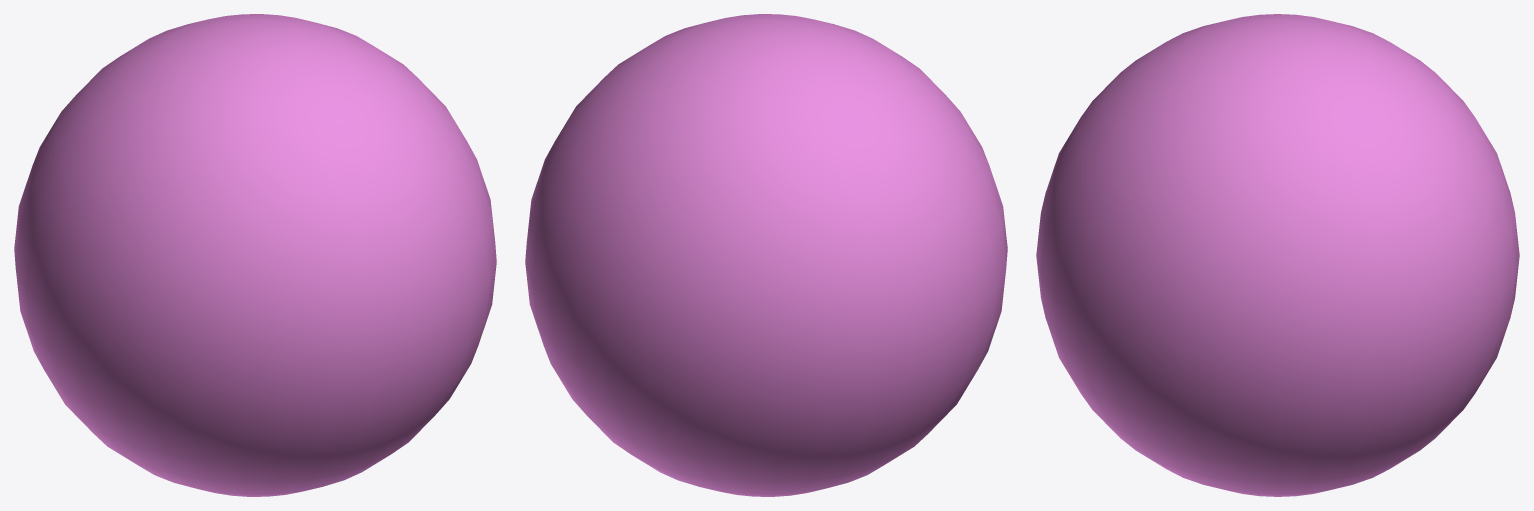
Rendered from AppraisersEyeMesh.fbx.
3 renders of one model, left to right at view 1: azimuth 30°, elevation 25°; view 2: azimuth 150°, elevation 25°; view 3: azimuth 270°, elevation 25°, orthographic.
Visible parts, largest first — view 1: AppraisersEyeShellMesh; view 2: AppraisersEyeShellMesh; view 3: AppraisersEyeShellMesh.
Boxes of the visible parts, x1,y1,x2,y2 form: AppraisersEyeShellMesh: (14, 14, 496, 496); AppraisersEyeShellMesh: (525, 14, 1007, 496); AppraisersEyeShellMesh: (1036, 14, 1519, 496).
Size of the model in its own units: 0.8 by 0.8 by 0.8.
